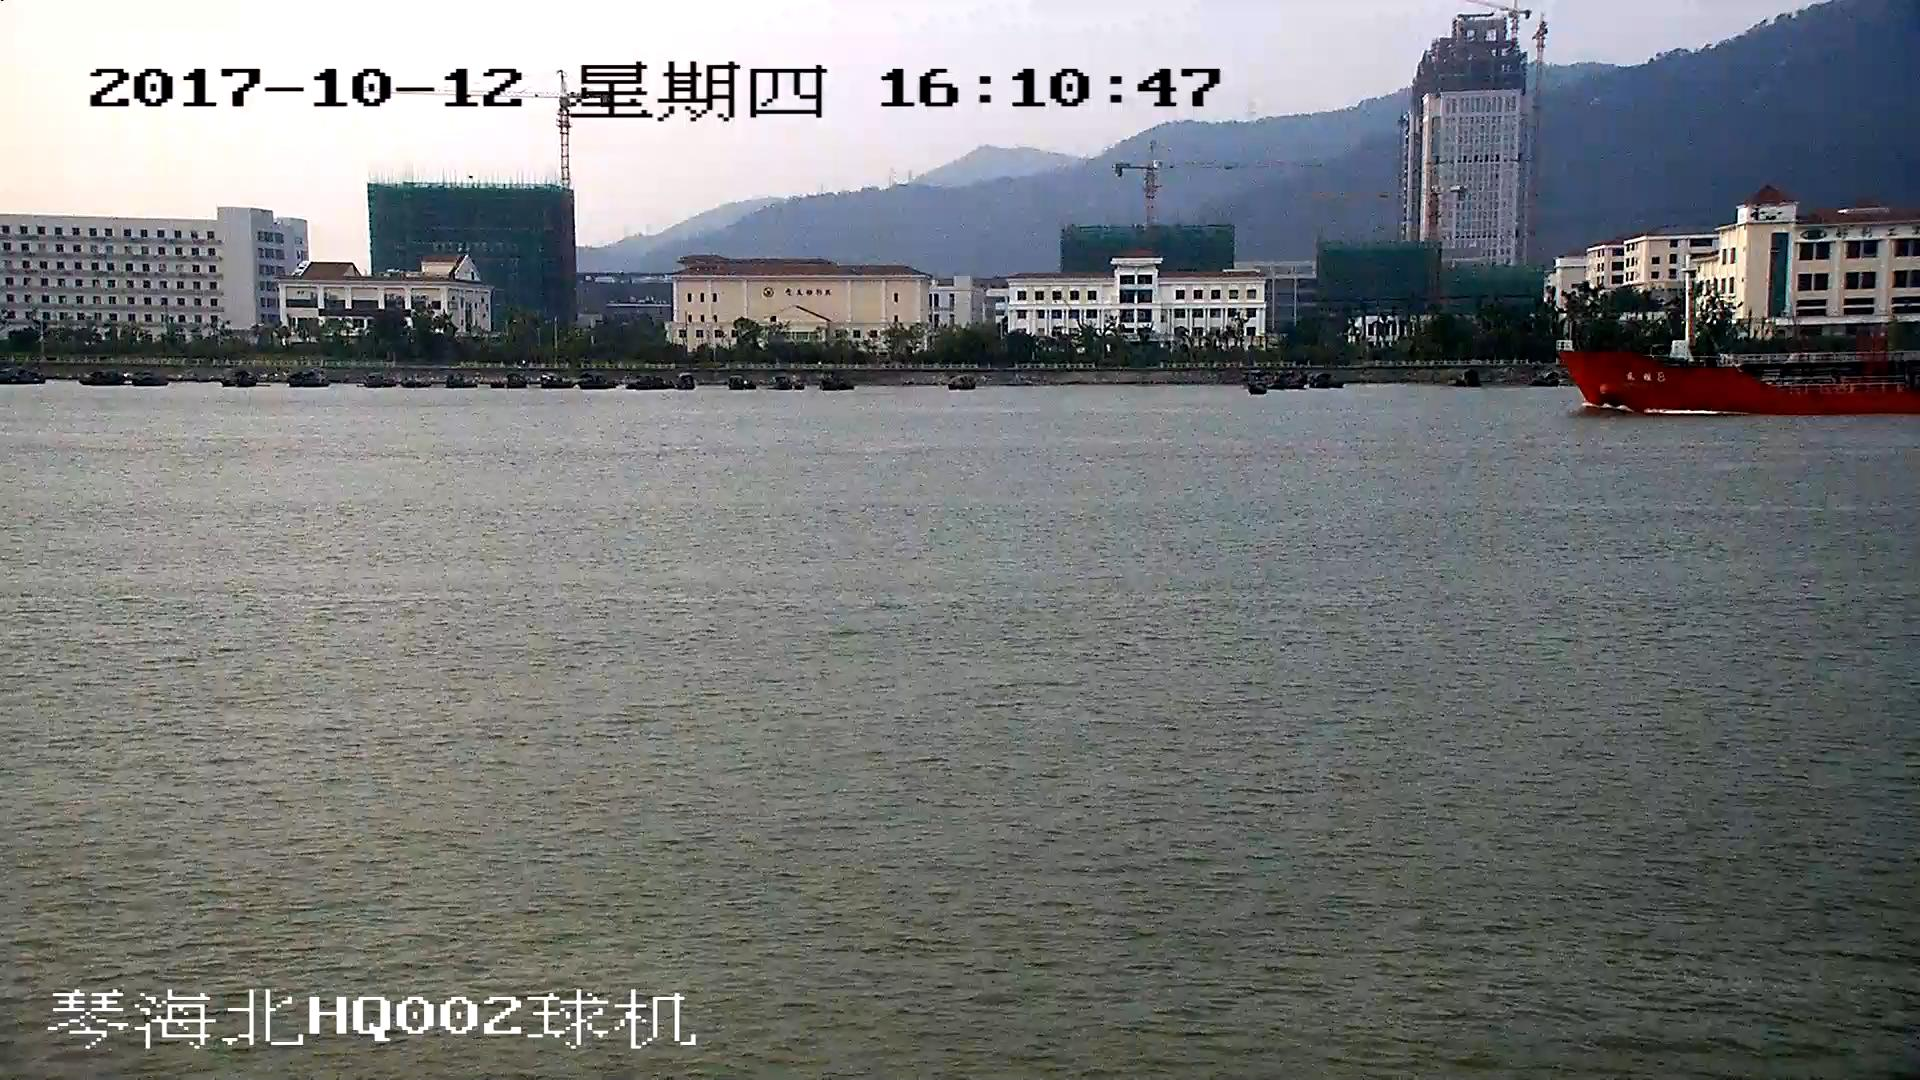general cargo ship: (1558, 282, 1920, 417)
